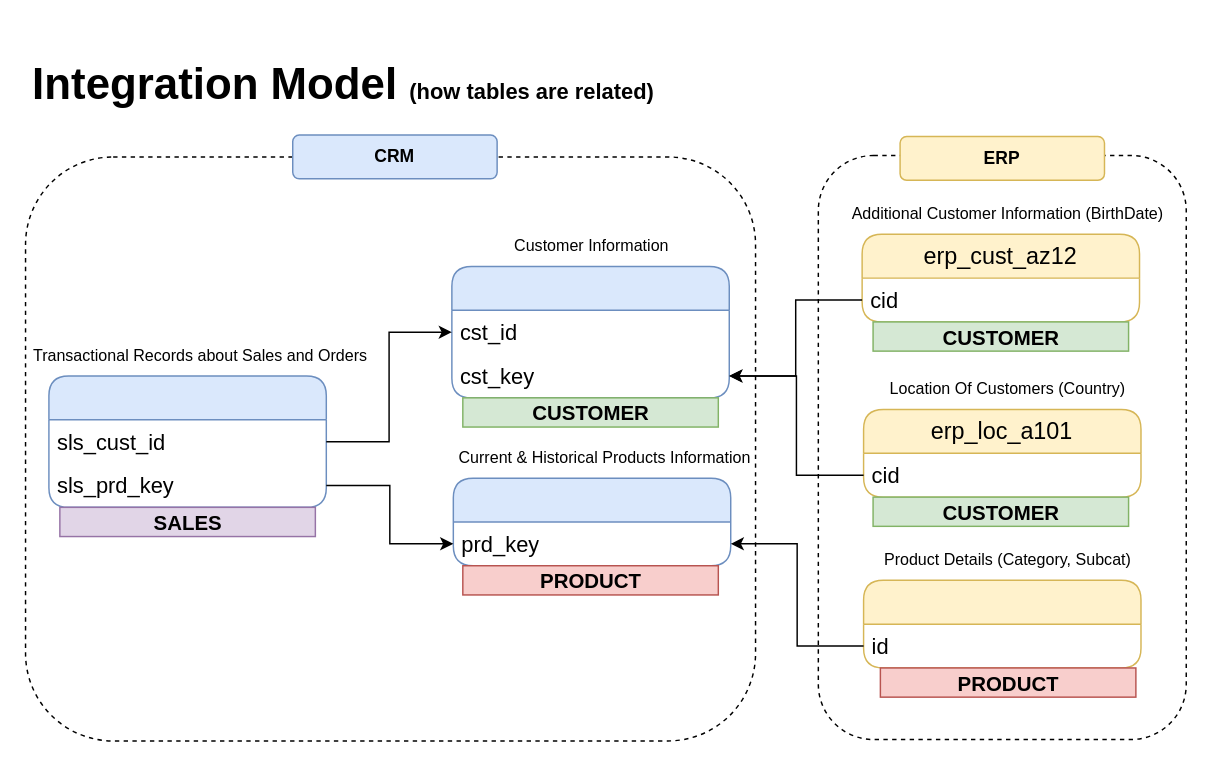
Image size: 1212x767. Some labels were removed from this diagram. Here are the shapes that lost their labels. From the top down, the box of each, then its label:
(450, 265, 729, 398): crm_cust_info
(47, 374, 326, 507): crm_sales_details
(452, 477, 731, 566): crm_prd_info
(862, 579, 1141, 668): erp_px_cat_g1v2
